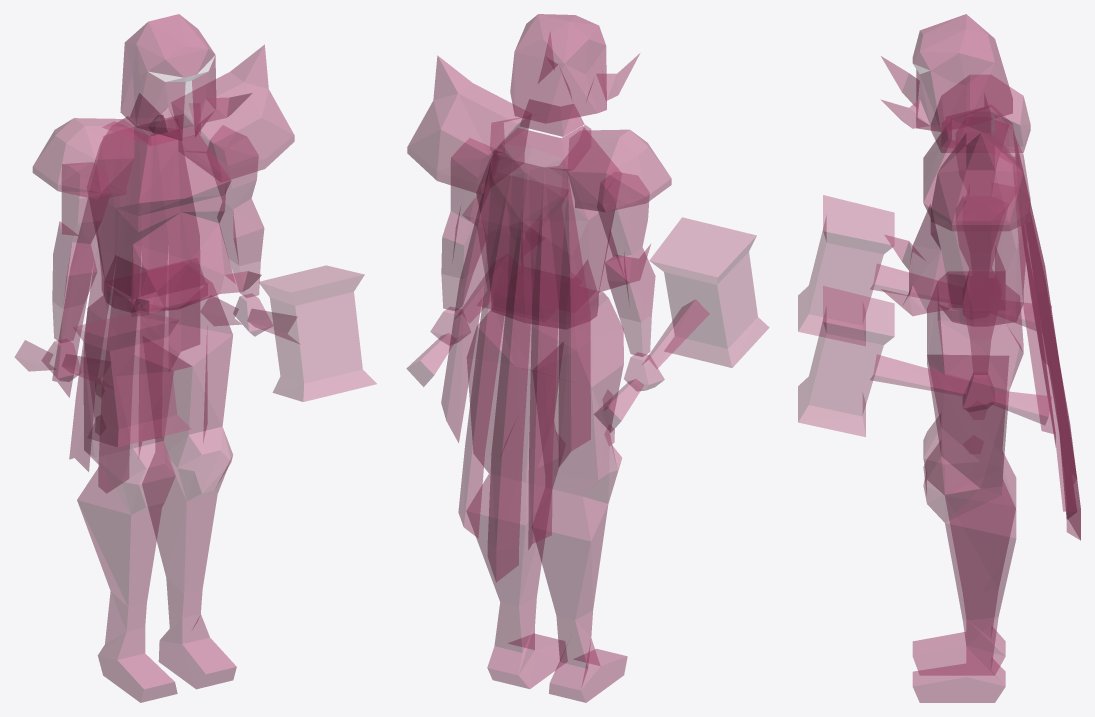
File: torag.glb
The picture shows the model from 3 angles, left to right: view 1: azimuth 30°, elevation 25°; view 2: azimuth 150°, elevation 25°; view 3: azimuth 270°, elevation 25°; orthographic projection.
Bounding box in the file's own units: 84 × 203 × 79.
Materials: 1 (1 with a texture image).
